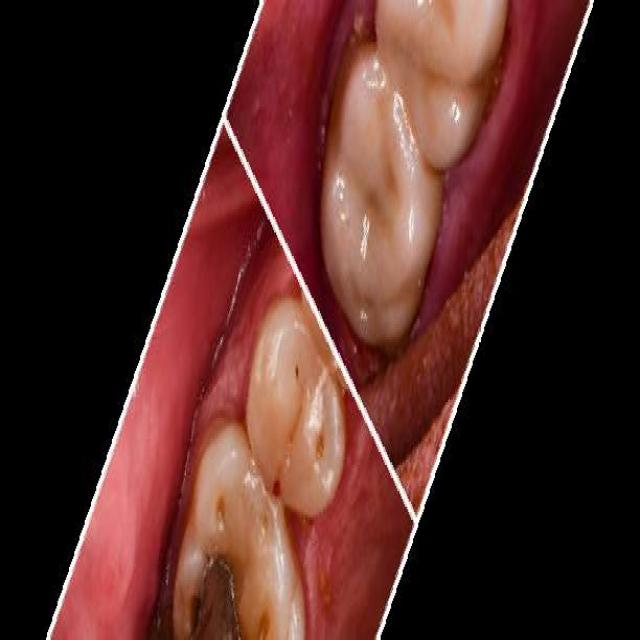caries: (186, 548, 240, 640), (209, 468, 230, 537), (251, 585, 277, 640), (268, 464, 284, 516), (312, 426, 330, 470)
